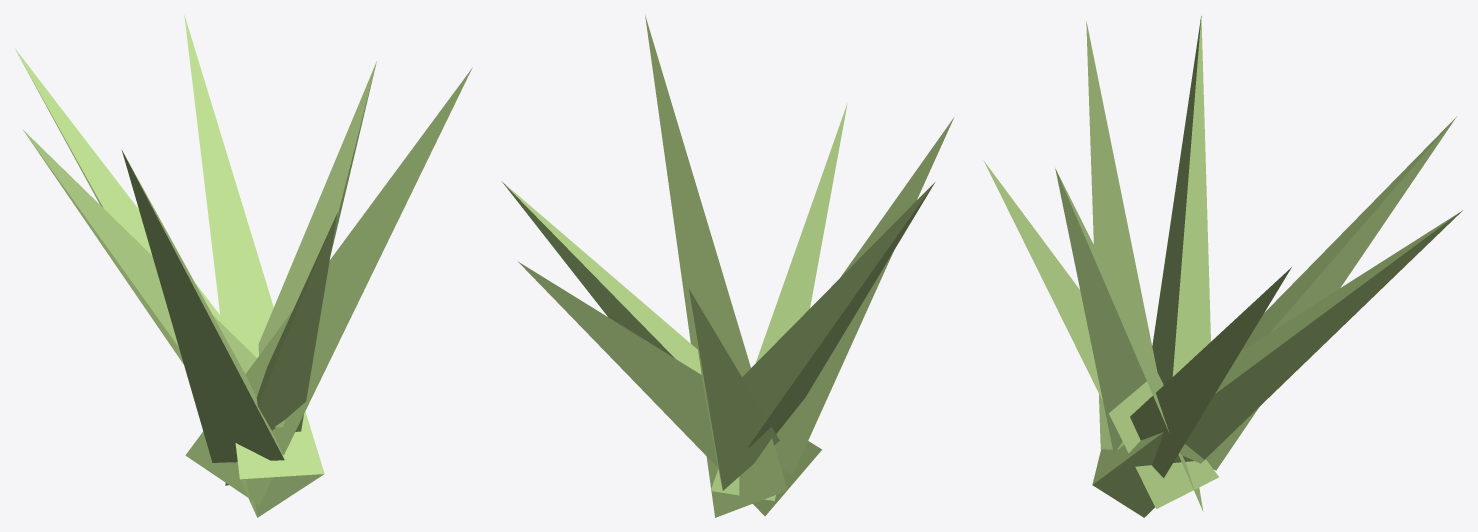
Rendered from MO_Grass-2.fbx.
3 views of the same model, side by side, from view 1: azimuth 30°, elevation 25°; view 2: azimuth 150°, elevation 25°; view 3: azimuth 270°, elevation 25° (orthographic). The views are drawn at different scales.
Parts seen in each view (by area): view 1: Grass; view 2: Grass; view 3: Grass.
Boxes of the visible parts, box(x1,y1,x2,y2) form: Grass: box(15, 15, 472, 517); Grass: box(501, 15, 954, 517); Grass: box(983, 15, 1462, 517).
Bounding box in the file's own units: 1.39 × 1.47 × 1.49.
